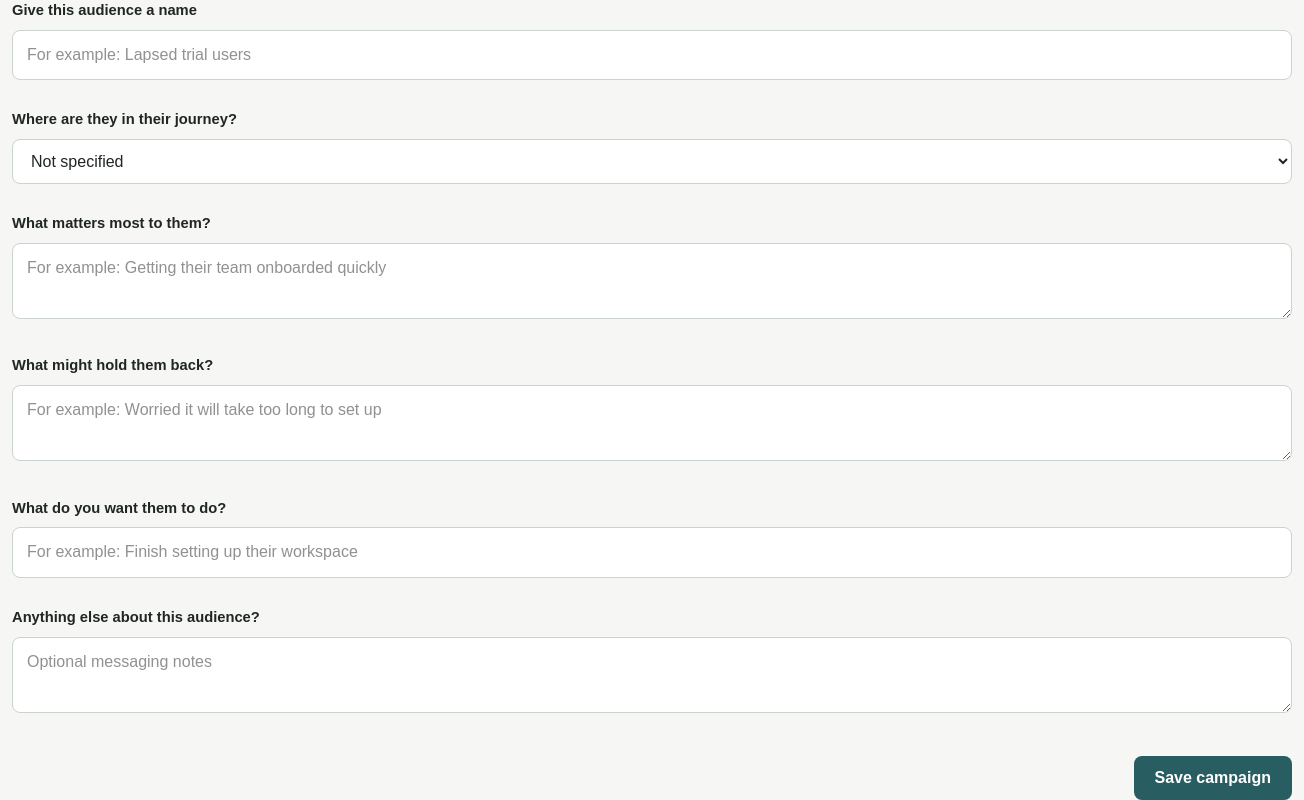
Scenario: CampaignForm › links each invalid field to its error message via aria-invalid and aria-describedby
(page scrolled)
Click the button "Save campaign": {"x": 1213, "y": 778} [1134,756,1292,799]
(page scrolled)
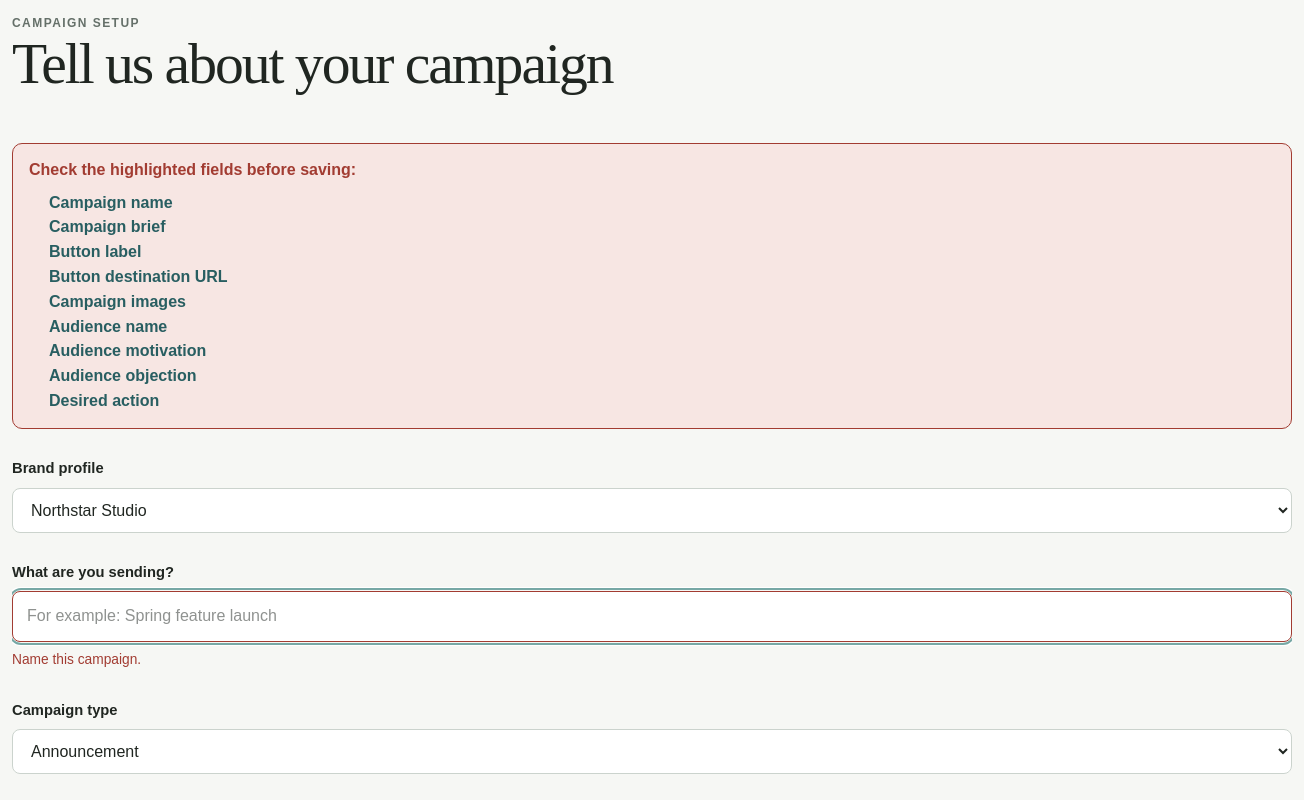
Result: the text "Name this campaign." is shown at [12,652,141,667]
